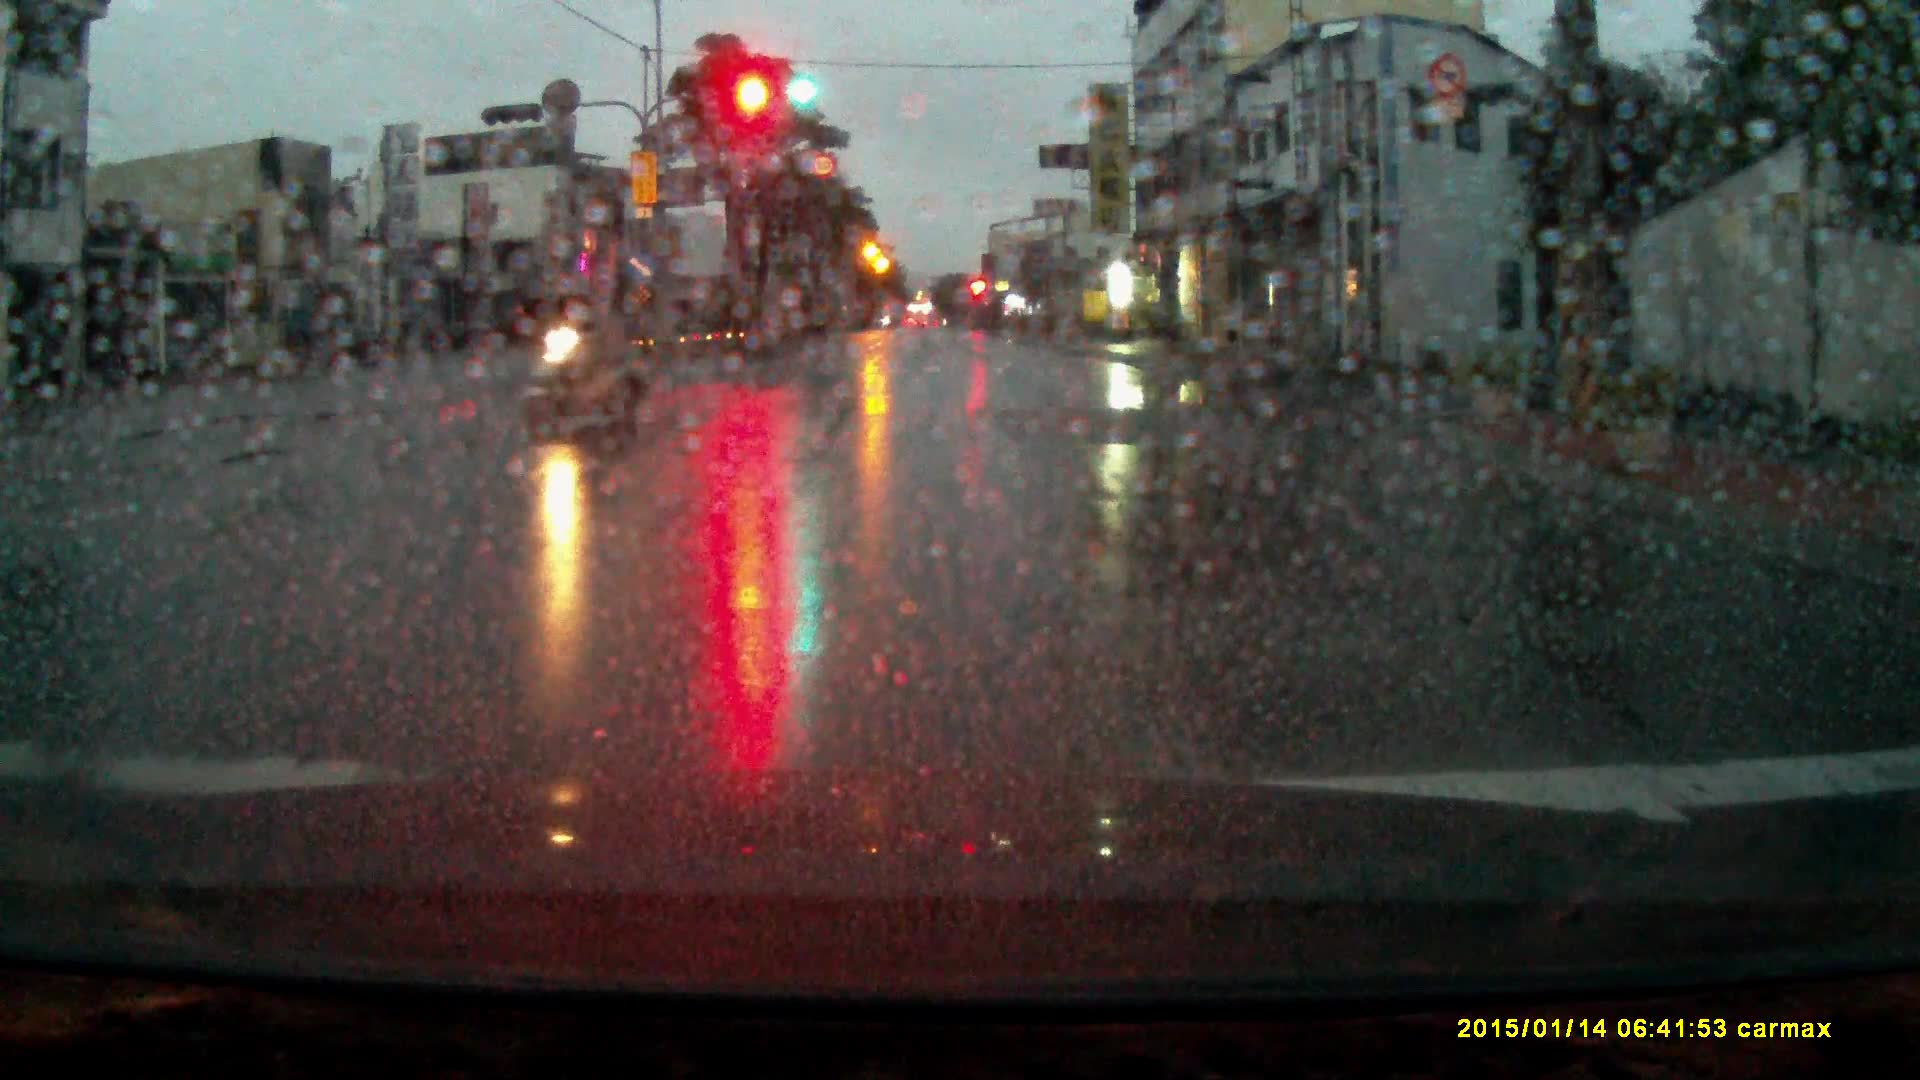rider: (520, 265, 647, 438)
